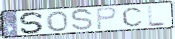C: (121, 6, 144, 28)
L: (147, 5, 168, 28)
O: (45, 10, 70, 32)
P: (95, 6, 119, 31)
S: (18, 11, 46, 35), (70, 8, 95, 33)
